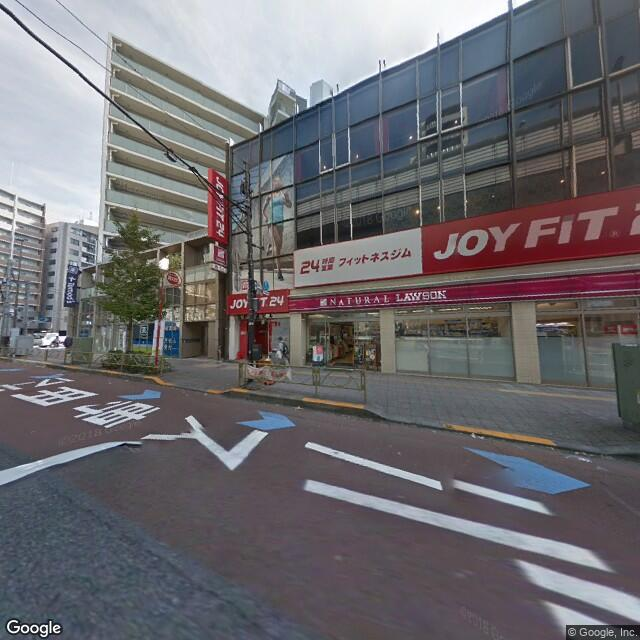lawson: (288, 263, 639, 317)
